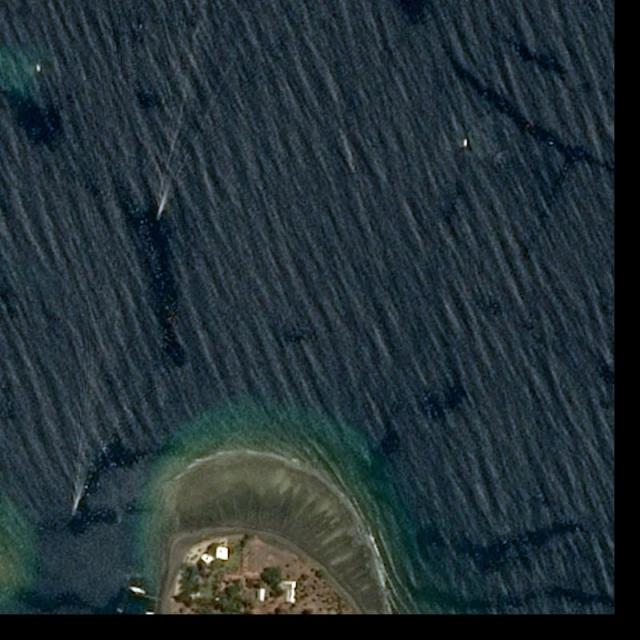ship: (69, 502, 79, 518), (156, 212, 165, 222), (36, 63, 42, 73), (463, 138, 468, 148)
